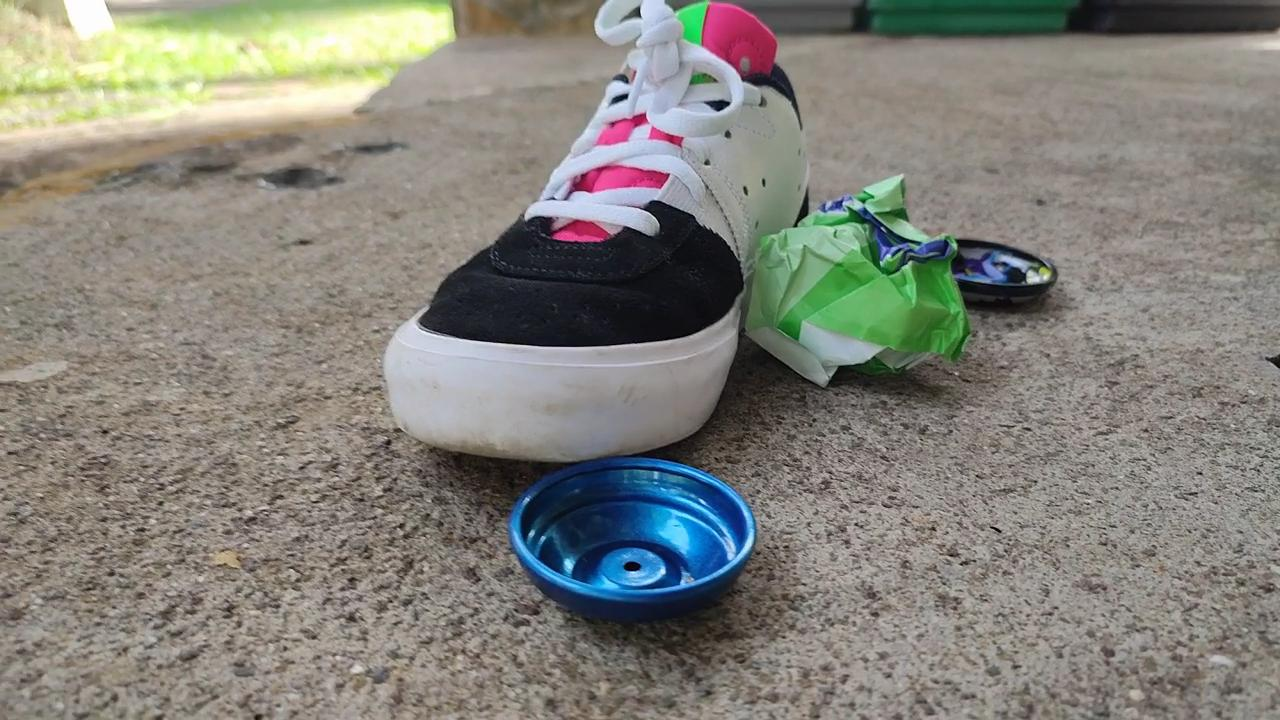Paper: (739, 168, 980, 396)
